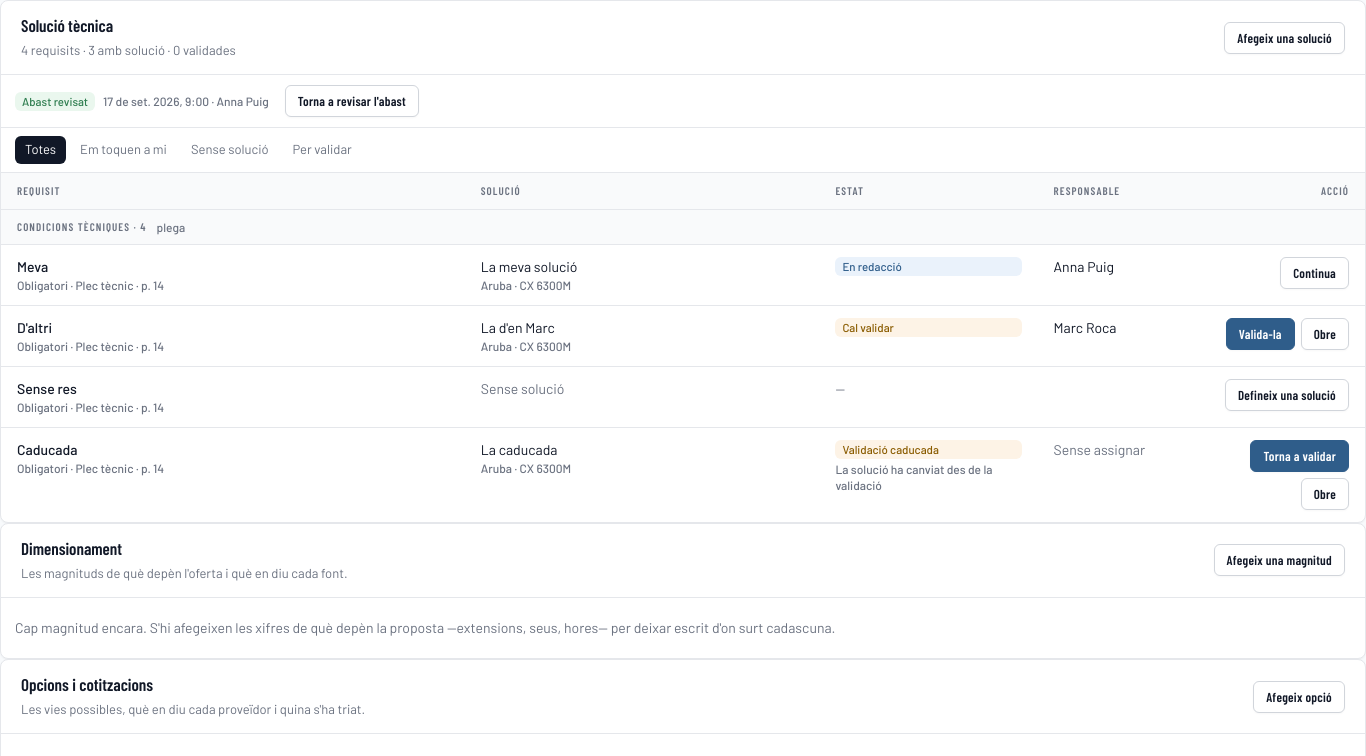
Test case: Solució tècnica · filtres › Sense solució
The image size is (1366, 756).
Click the button "Sense solució". click: point(230, 150)
box: [181,136,279,164]
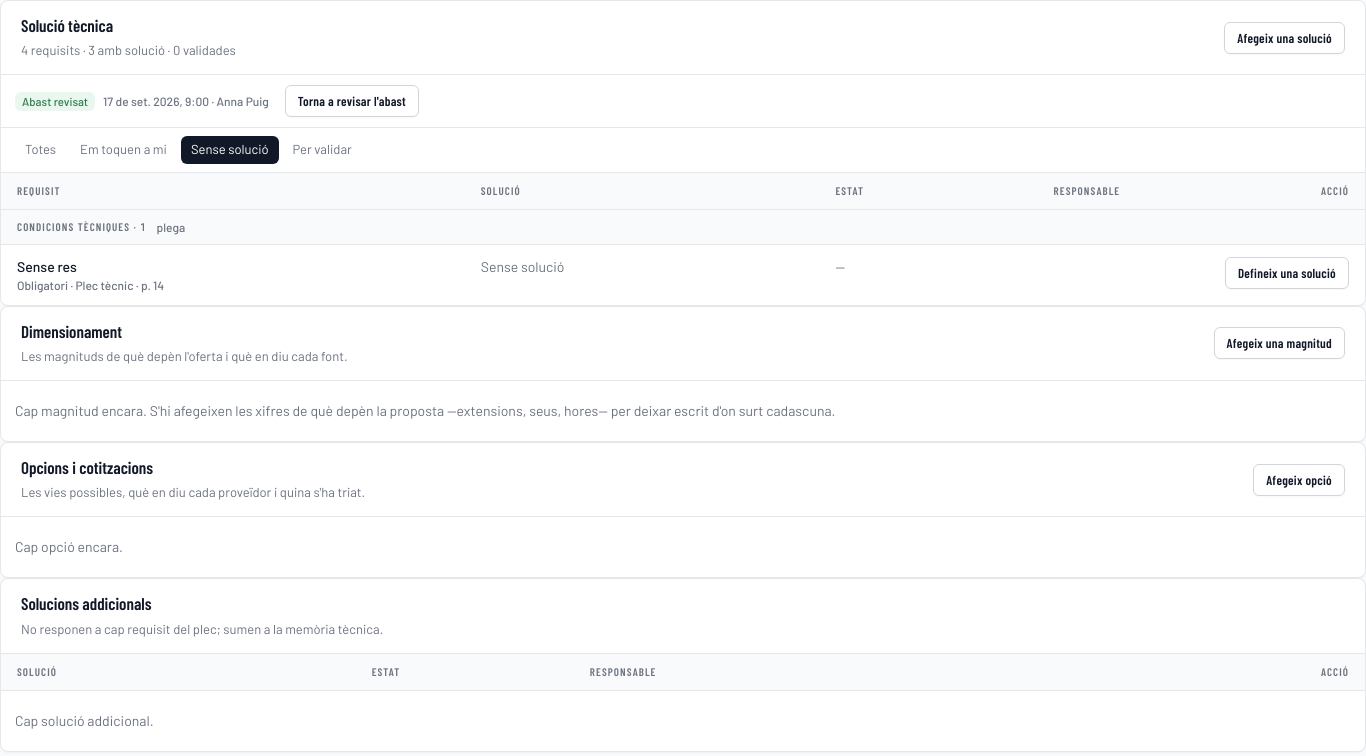
Expected: the text "Sense res" is shown, [17,258,77,275]
Expected: the text "Meva" is gone
